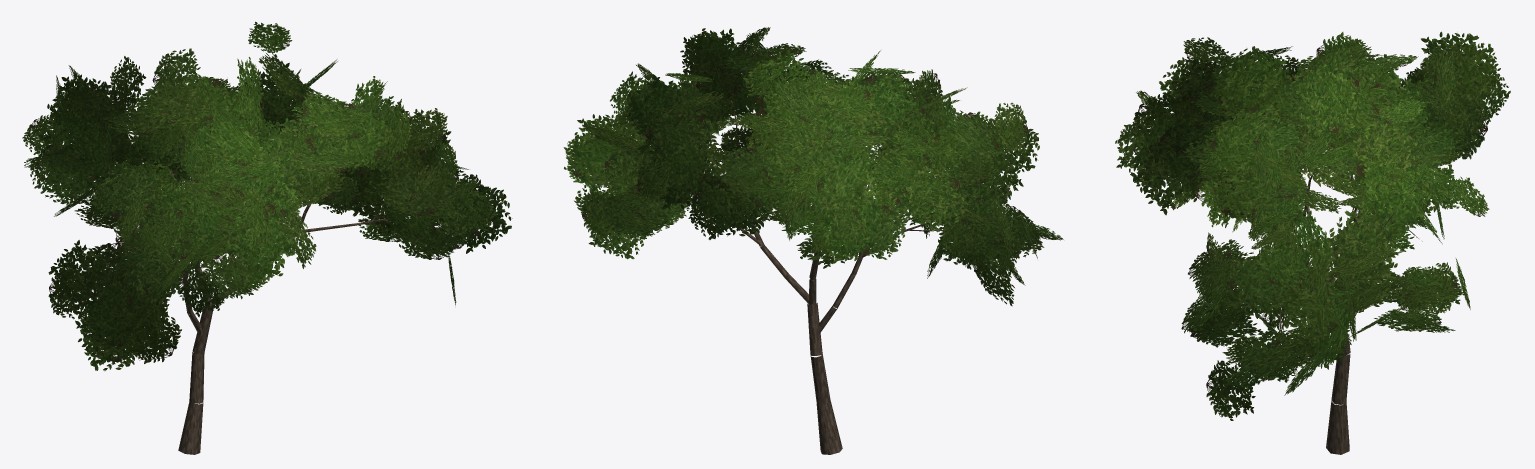
File: tree_1.glb
3 renders of one model, left to right at view 1: azimuth 30°, elevation 25°; view 2: azimuth 150°, elevation 25°; view 3: azimuth 270°, elevation 25°, orthographic. The views are drawn at different scales.
Visible parts, largest first — view 1: Tree_1; view 2: Tree_1; view 3: Tree_1.
Boxes of the visible parts, box(x1,y1,x2,y2) form: Tree_1: box(22, 21, 512, 454); Tree_1: box(563, 27, 1063, 454); Tree_1: box(1115, 31, 1510, 454).
Bounding box in the file's own units: 19.03 × 15.6 × 13.62.
Materials: 2 (2 with a texture image).
